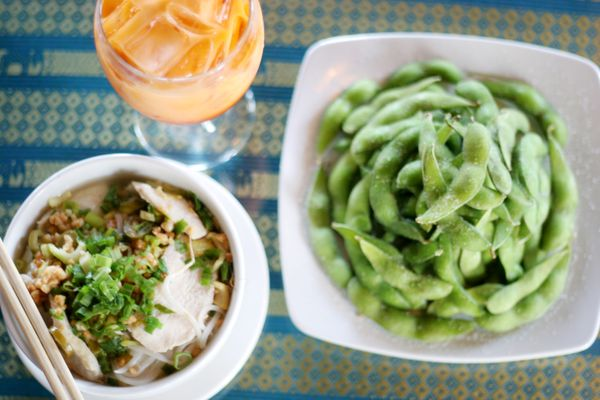pizza: (93, 0, 266, 130)
sushi: (277, 31, 597, 359), (1, 152, 271, 395)
